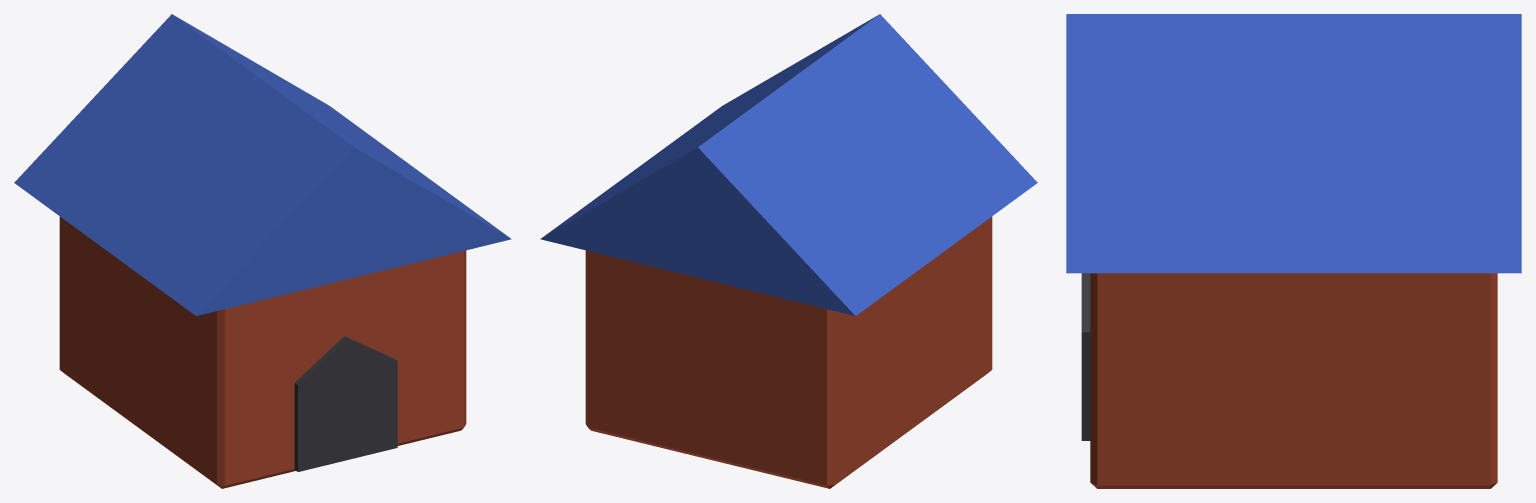
Rendered from DogHouse.fbx.
3 views of the same model, side by side, from view 1: azimuth 30°, elevation 25°; view 2: azimuth 150°, elevation 25°; view 3: azimuth 270°, elevation 25° (orthographic). The views are drawn at different scales.
Visible parts, largest first — view 1: DogHouse; view 2: DogHouse; view 3: DogHouse.
Part boxes in pixels (x1,y1,x2,y2): DogHouse: [14, 14, 511, 488]; DogHouse: [540, 14, 1037, 488]; DogHouse: [1066, 14, 1521, 488].
Bounding box in the file's own units: 3.8 × 3.7 × 3.8.
1 material, 1 textured.
